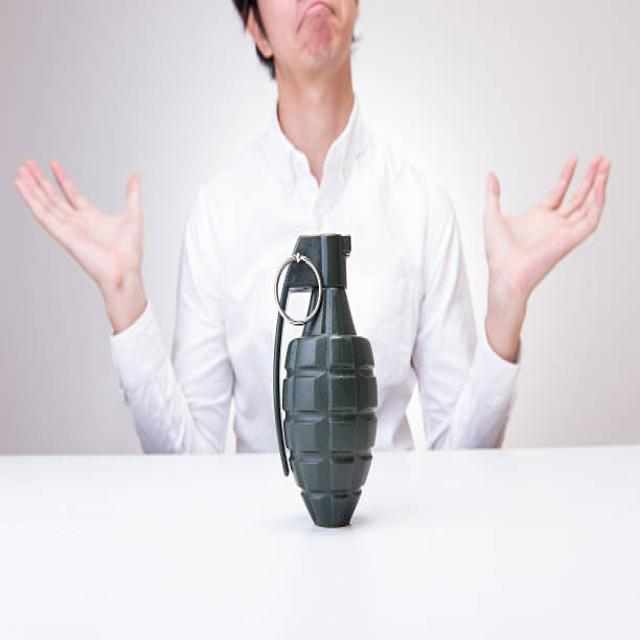grenade: (268, 225, 386, 536)
